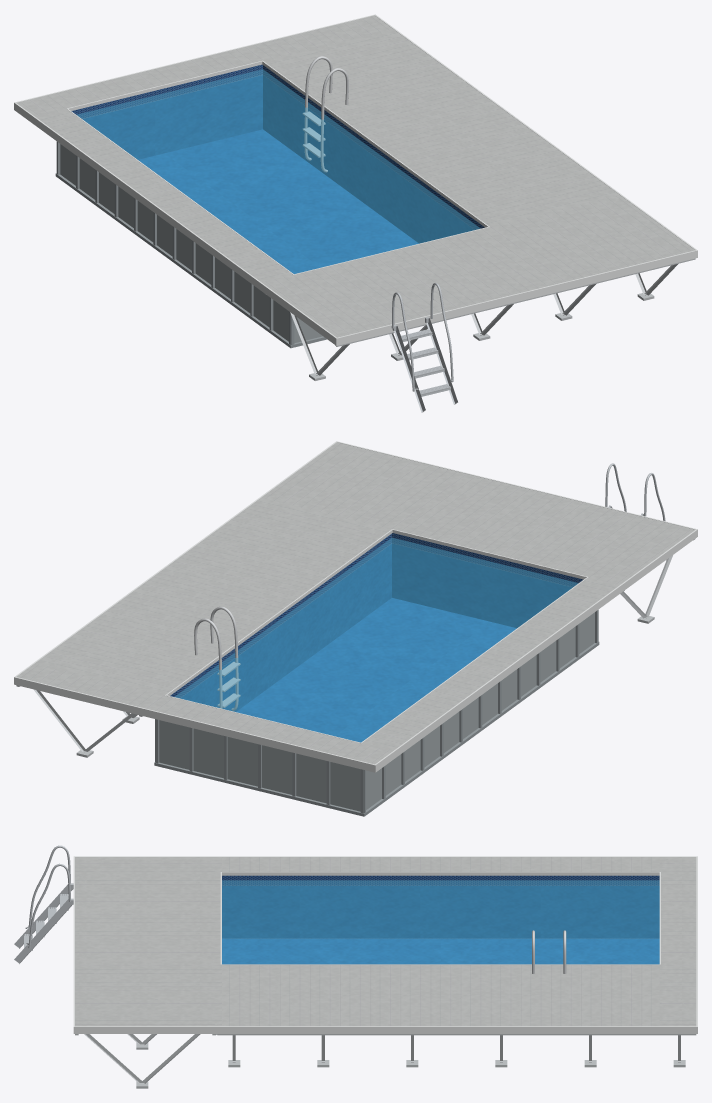
File: kayak-pool-12x24-gray-endside-ag-nofence.f247b14076.glb
3 views of the same model, one above another, from view 1: azimuth 30°, elevation 25°; view 2: azimuth 150°, elevation 25°; view 3: azimuth 270°, elevation 25° (orthographic). The views are drawn at different scales.
Visible parts, largest first — view 1: deck, water, liner_wall, liner_floor, fascia, wall, upright, stud, ladder, steel; view 2: deck, water, liner_wall, liner_floor, wall, fascia, upright, stud, steel, ladder; view 3: deck, water, liner_wall, liner_floor, fascia, stud, ladder.
Part boxes in pixels (bbox=[...]): deck: bbox=[17, 15, 694, 337]; water: bbox=[77, 69, 480, 273]; liner_wall: bbox=[71, 64, 484, 243]; liner_floor: bbox=[138, 129, 418, 273]; fascia: bbox=[14, 14, 697, 345]; wall: bbox=[60, 144, 322, 343]; upright: bbox=[55, 141, 326, 348]; stud: bbox=[264, 258, 695, 380]; ladder: bbox=[391, 283, 457, 412]; steel: bbox=[302, 56, 348, 172]; deck: bbox=[17, 442, 695, 764]; water: bbox=[175, 537, 577, 742]; liner_wall: bbox=[170, 533, 583, 711]; liner_floor: bbox=[236, 598, 516, 742]; wall: bbox=[159, 612, 594, 811]; fascia: bbox=[14, 441, 697, 772]; upright: bbox=[154, 610, 599, 816]; stud: bbox=[16, 538, 695, 757]; steel: bbox=[194, 606, 240, 710]; ladder: bbox=[605, 463, 666, 560]; deck: bbox=[75, 857, 696, 1026]; water: bbox=[222, 880, 659, 964]; liner_wall: bbox=[222, 875, 659, 938]; liner_floor: bbox=[222, 938, 659, 964]; fascia: bbox=[73, 856, 697, 1033]; stud: bbox=[75, 1034, 696, 1088]; ladder: bbox=[14, 845, 73, 963].
Size of the model in its own units: 6.71 by 1.9 by 11.35.
10 materials, 3 textured.
